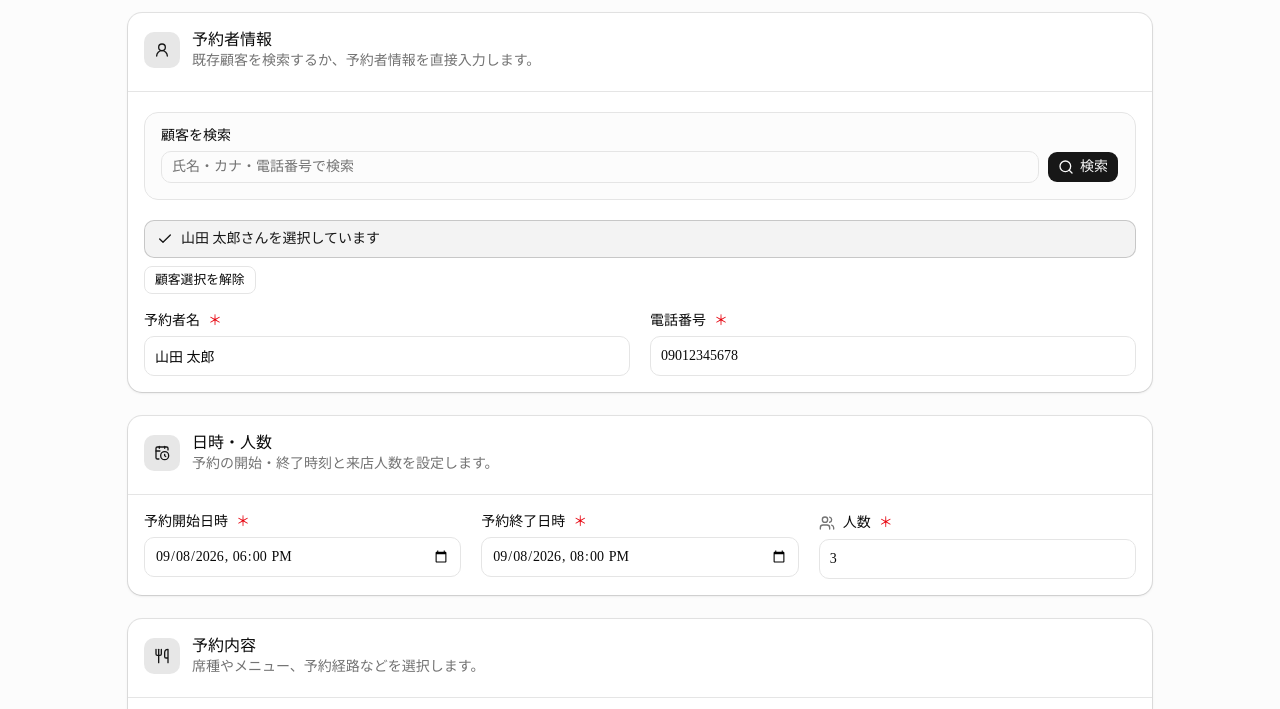
EditReservationFormContainer › 予約更新中に予期しないエラーが発生すると、共通メッセージを表示する
The width and height of the screenshot is (1280, 709).
Replace the text in the number field labelled "人数 ＊" with "4" at (977, 559), box [819,539,1136,579]
(page scrolled)
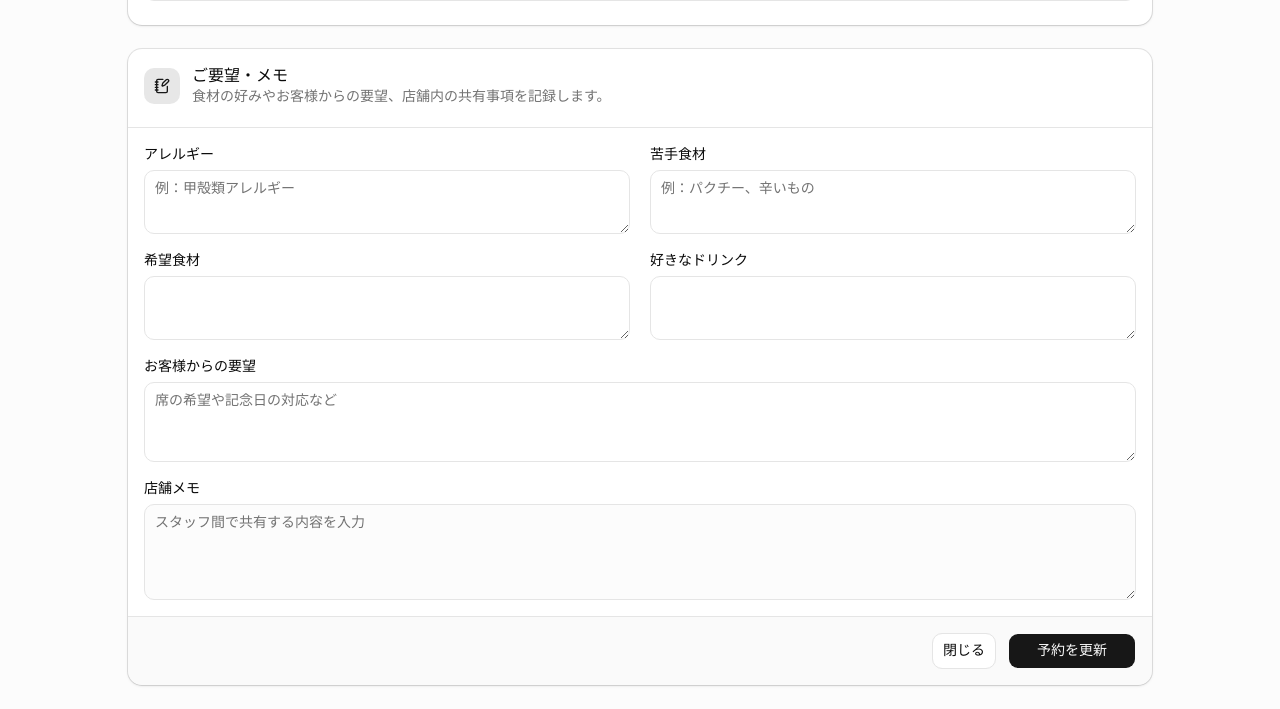
Click the button "予約を更新" at (1072, 651), box [1008,633,1136,669]
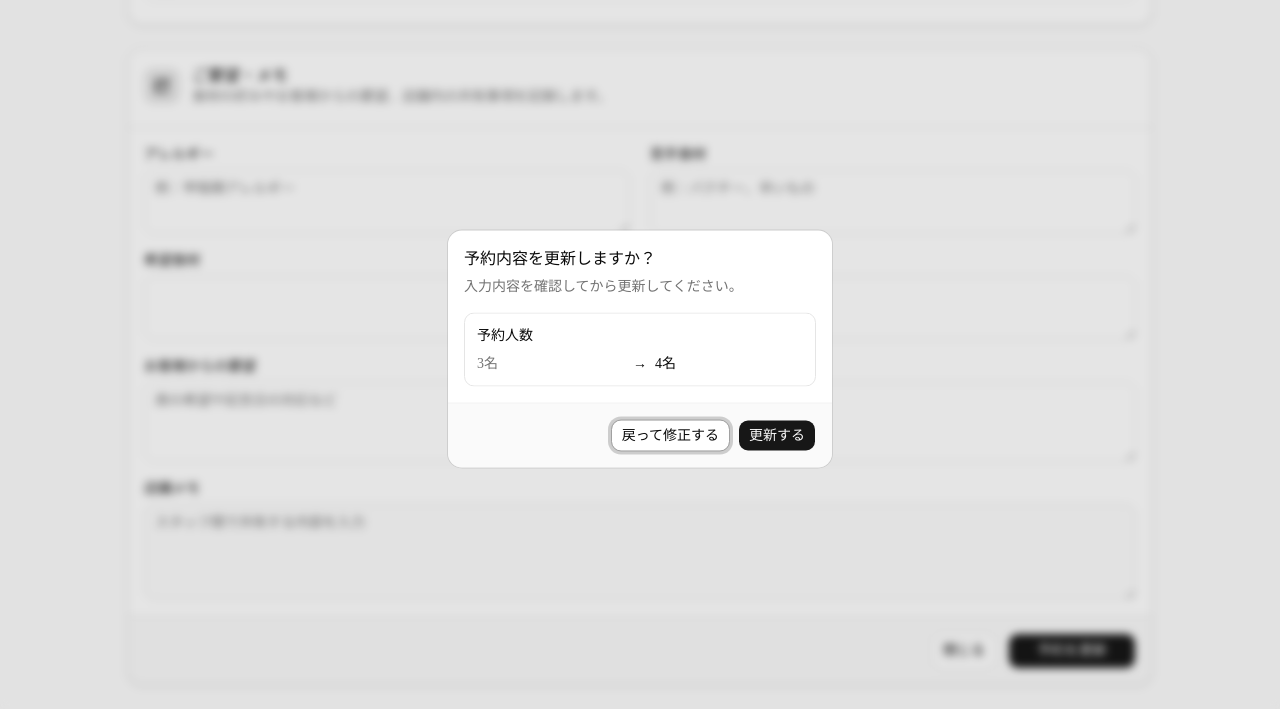
expect the button "更新する" is enabled: met
Click the button "更新する" at (777, 436), box [738,420,816,452]
(page scrolled)
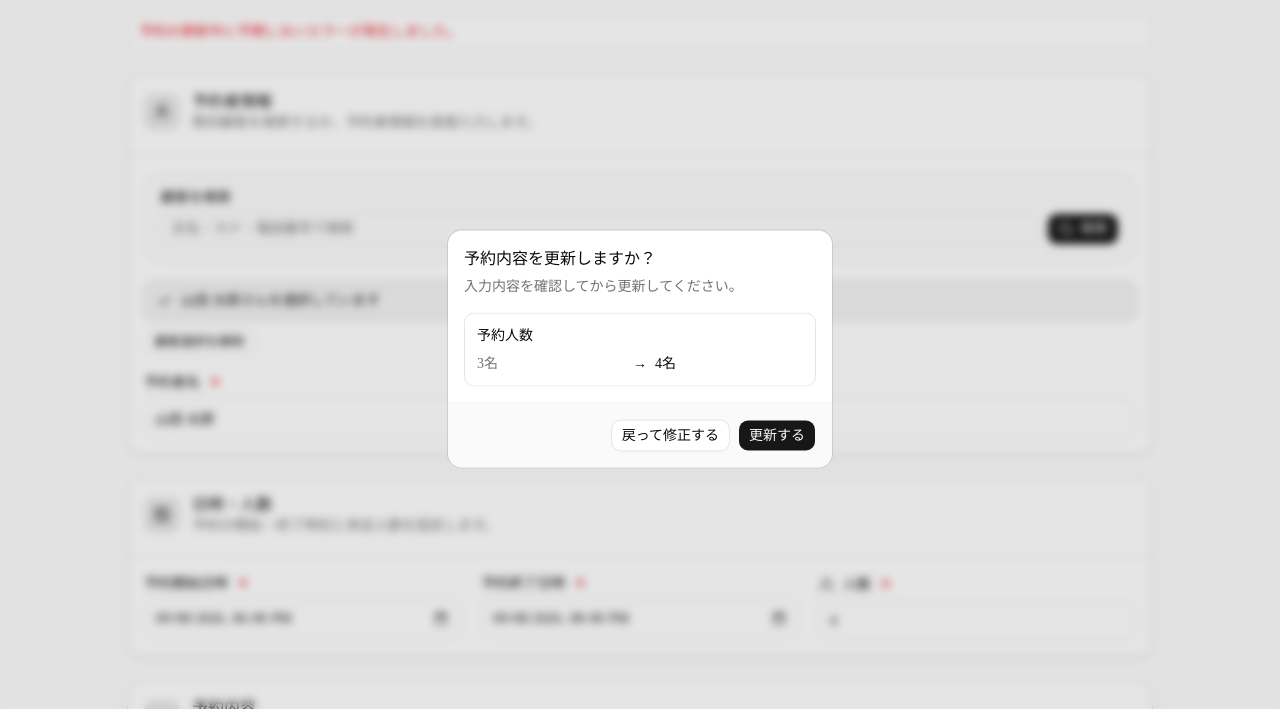
expect the text "予約の更新中に予期しないエラーが発生しました。" is shown: met, box [139,24,461,39]
